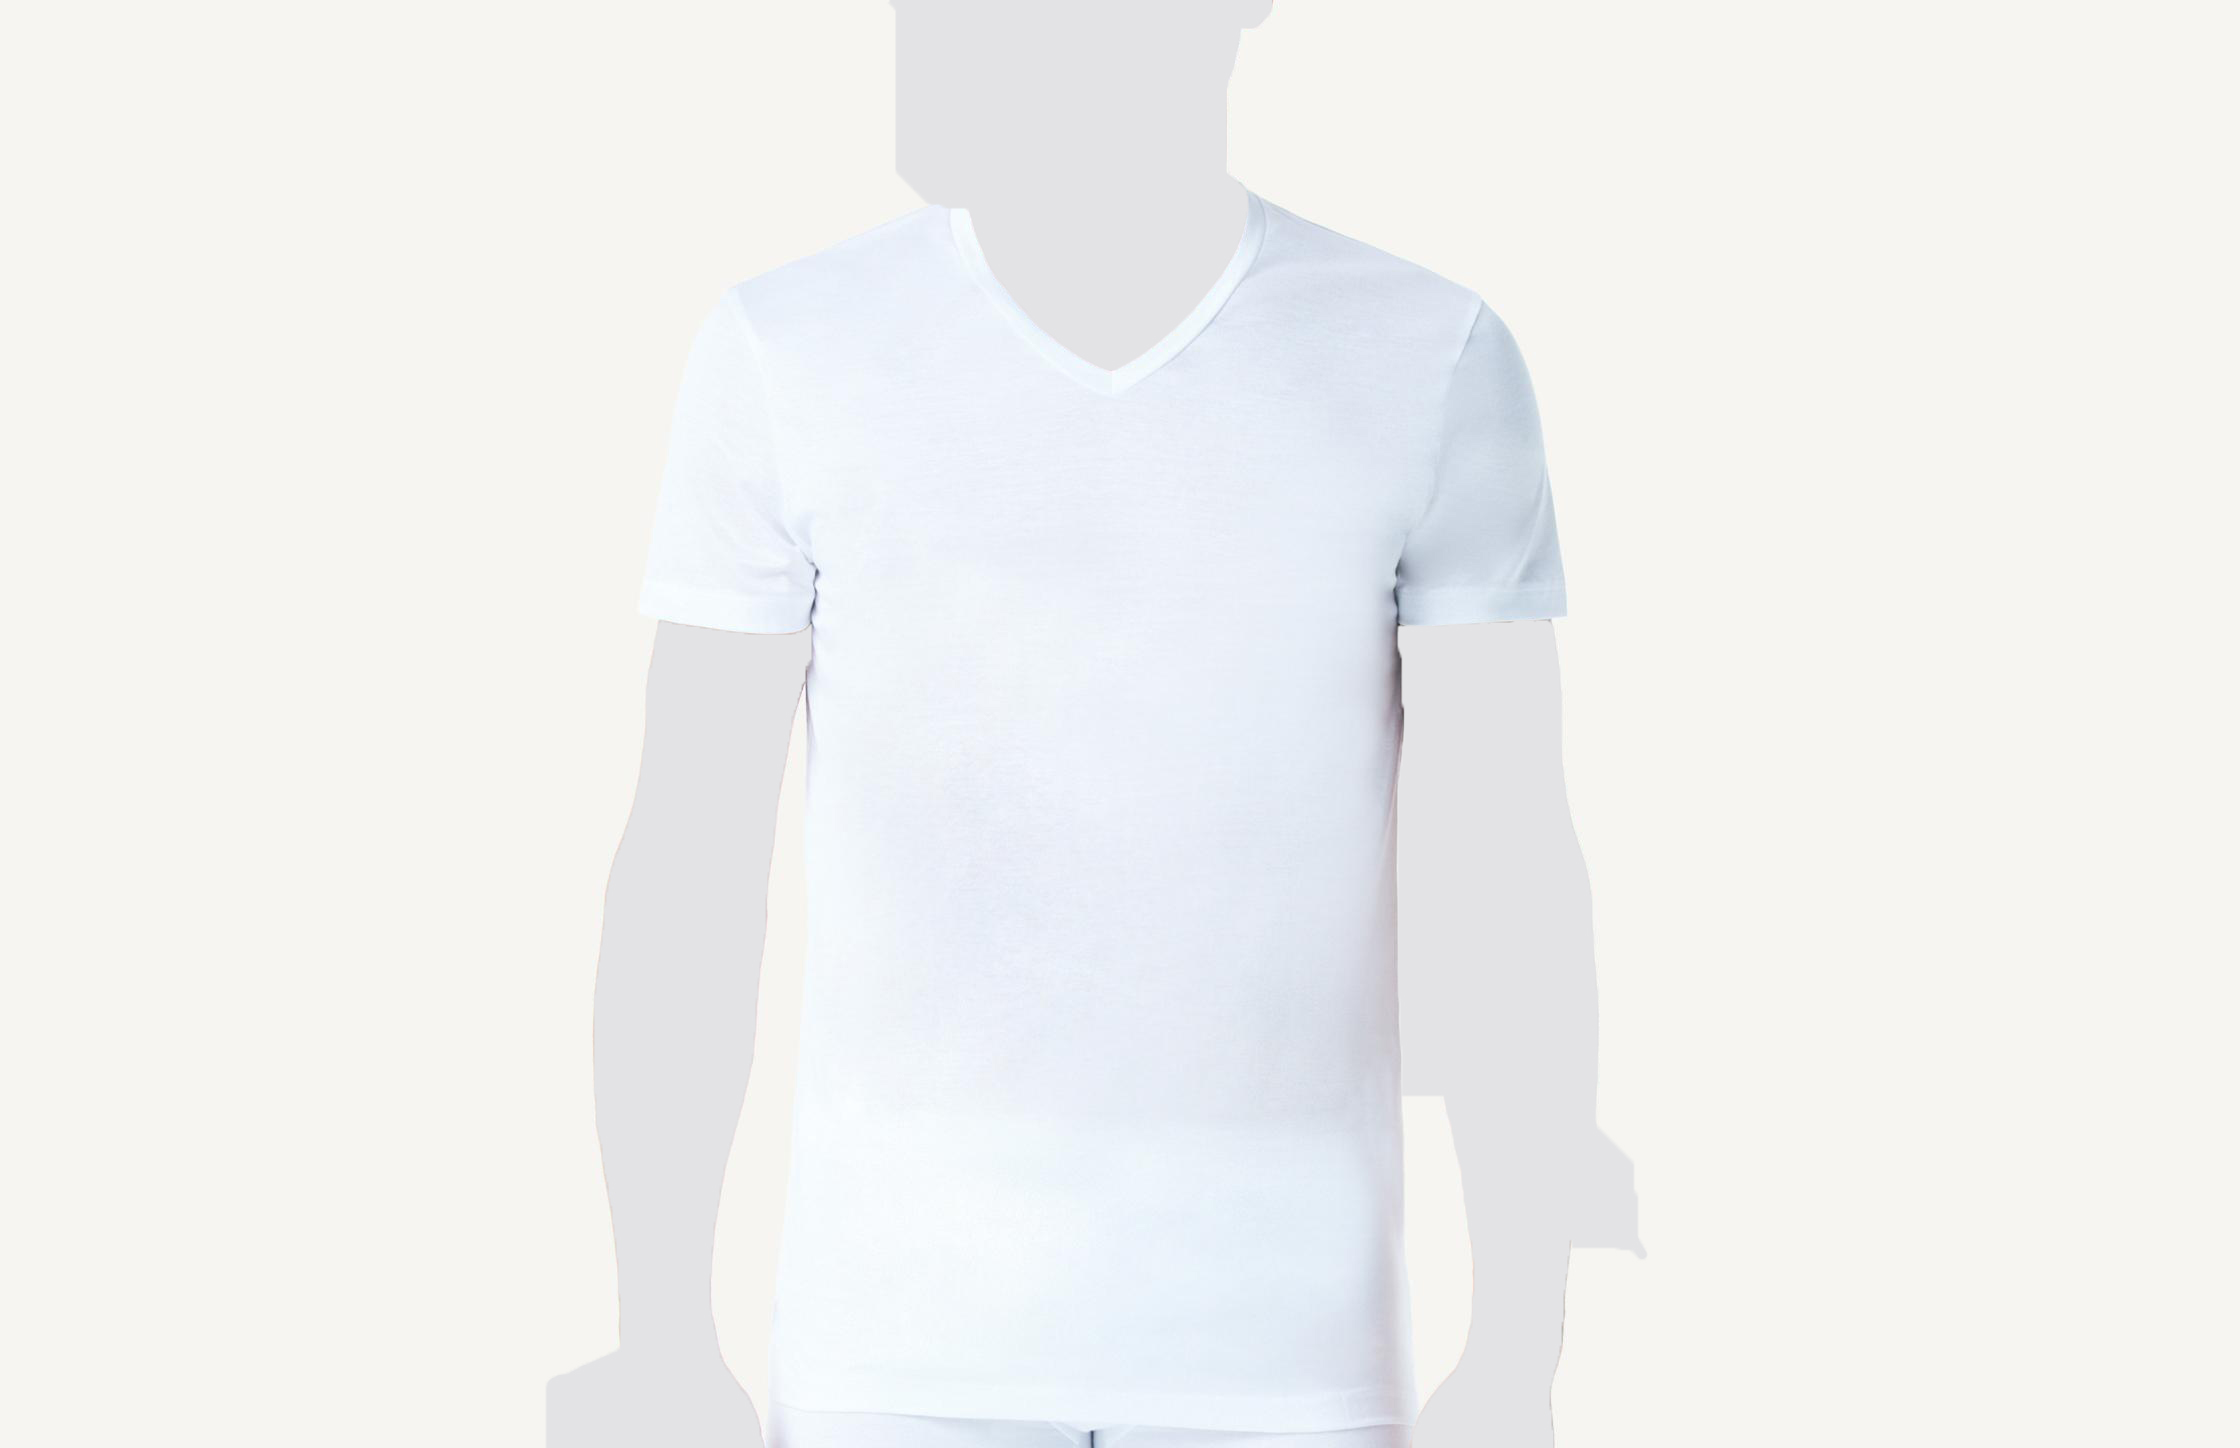teeshirt: (637, 188, 1602, 1445)
